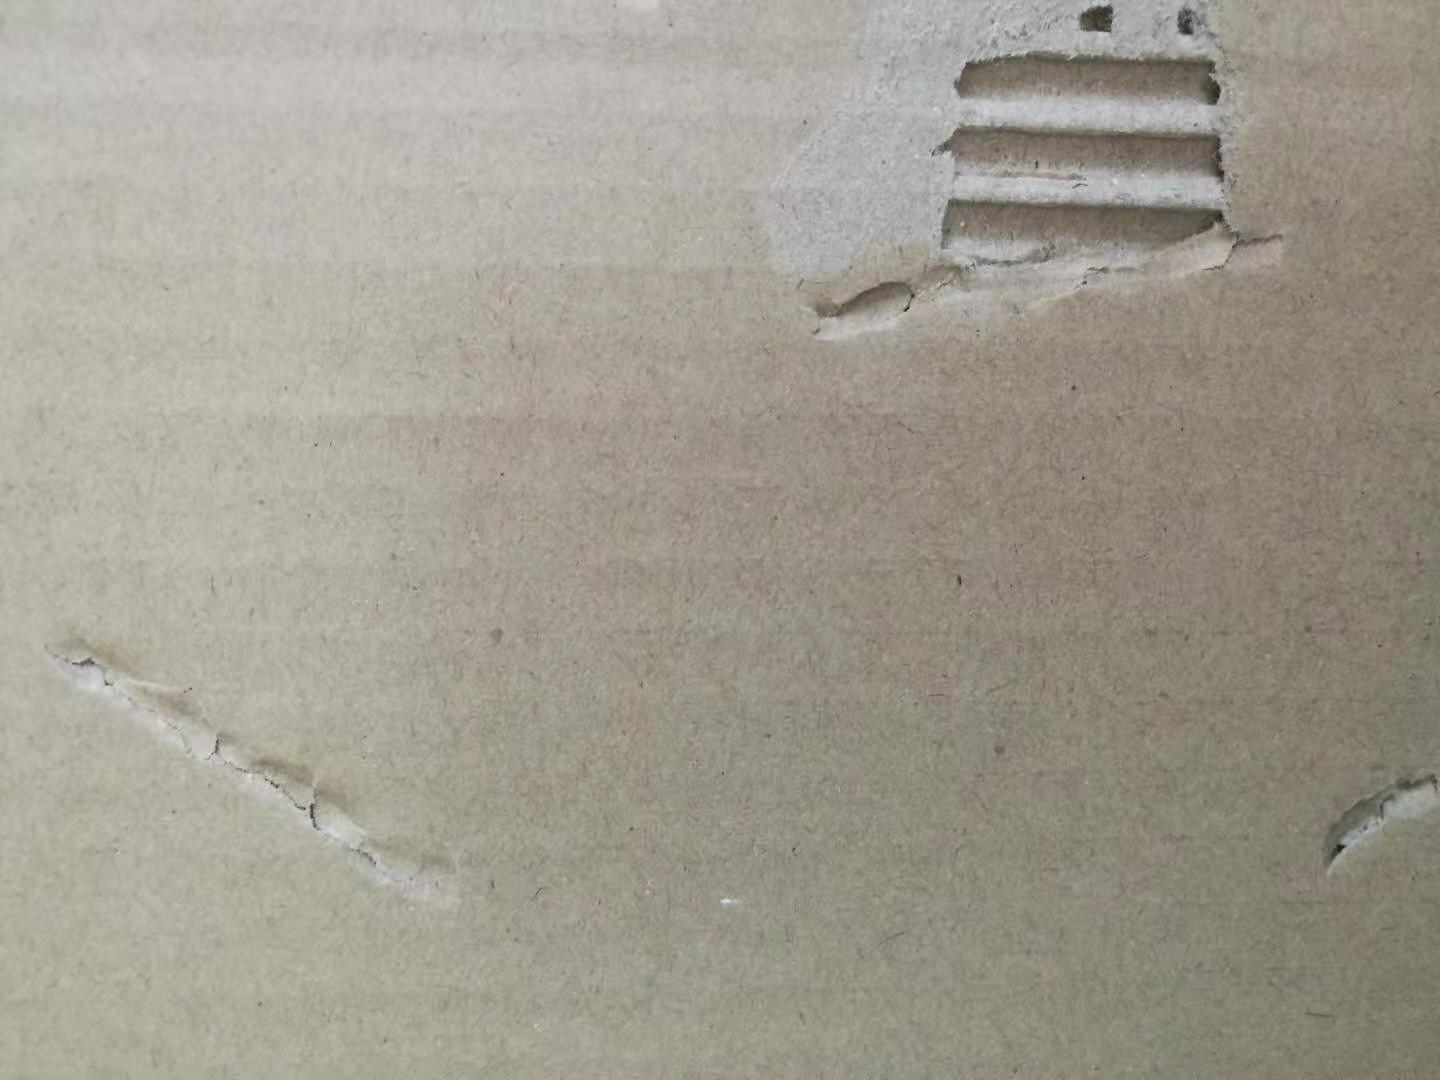defect: (718, 2, 1328, 404), (29, 601, 502, 940), (1295, 740, 1440, 901)
